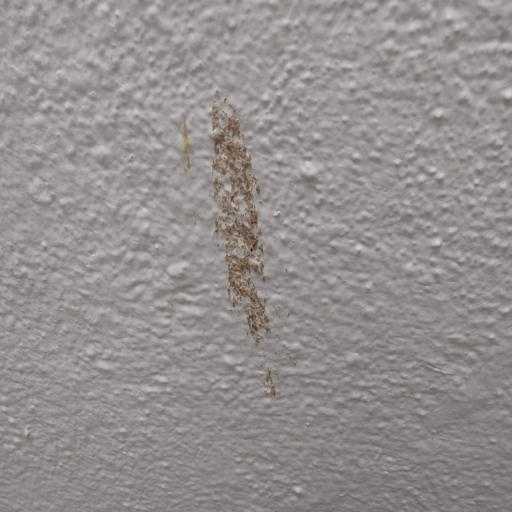stain: (173, 77, 285, 416)
